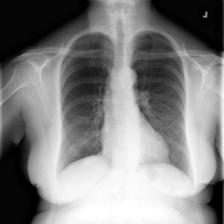normal: (53, 25, 195, 186)
